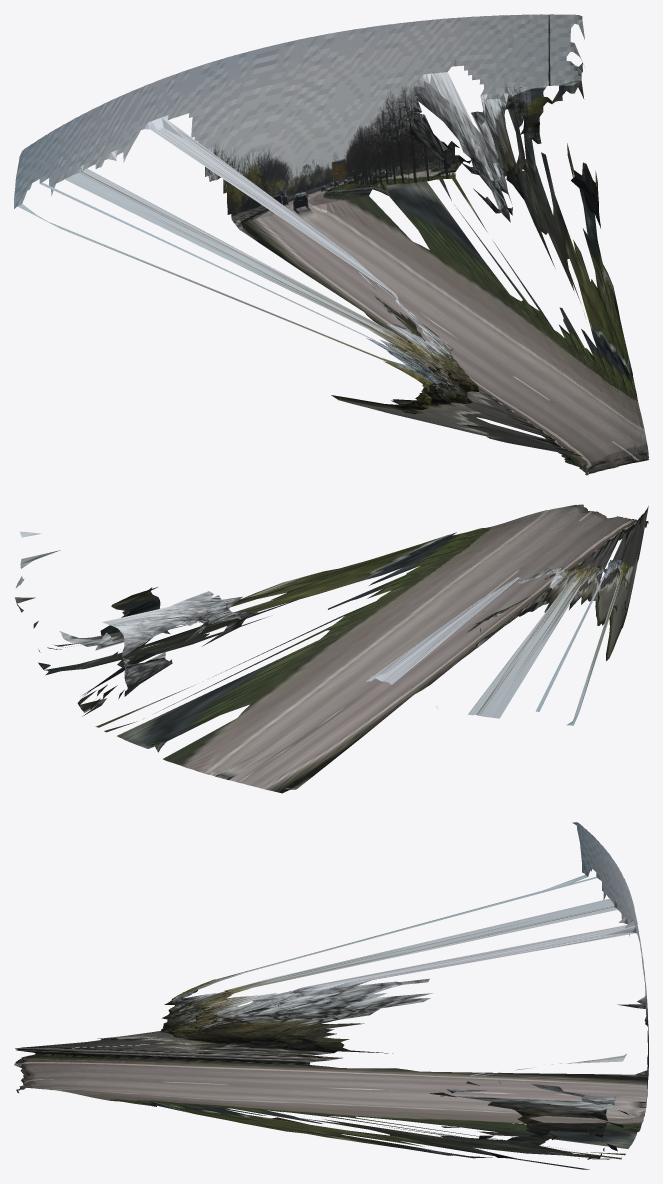
3 renders of one model, top to bottom at view 1: azimuth 30°, elevation 25°; view 2: azimuth 150°, elevation 25°; view 3: azimuth 270°, elevation 25°, orthographic. The views are drawn at different scales.
Parts seen in each view (by area): view 1: defaultobject; view 2: defaultobject; view 3: defaultobject.
Boxes of the visible parts, x1,y1,x2,y2 form: defaultobject: [14, 14, 648, 475]; defaultobject: [15, 504, 648, 793]; defaultobject: [14, 822, 648, 1169].
Bounding box in the file's own units: 40.92 × 12.43 × 44.75.
Materials: 1 (1 with a texture image).
